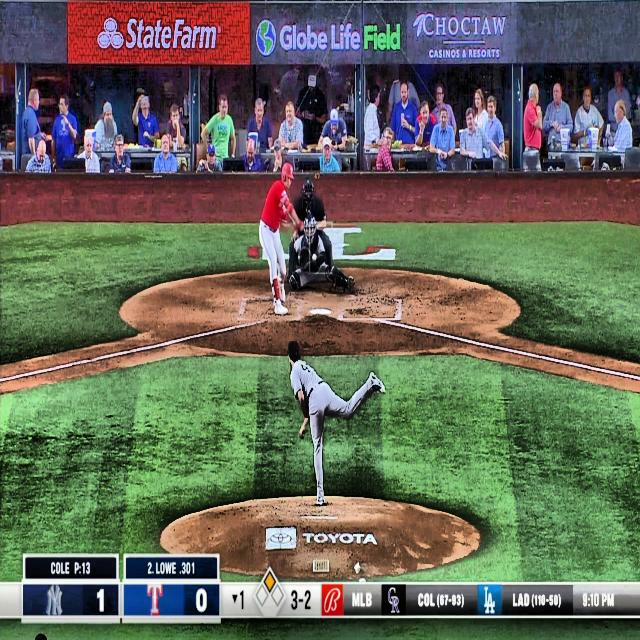baseball: (312, 252, 317, 262)
